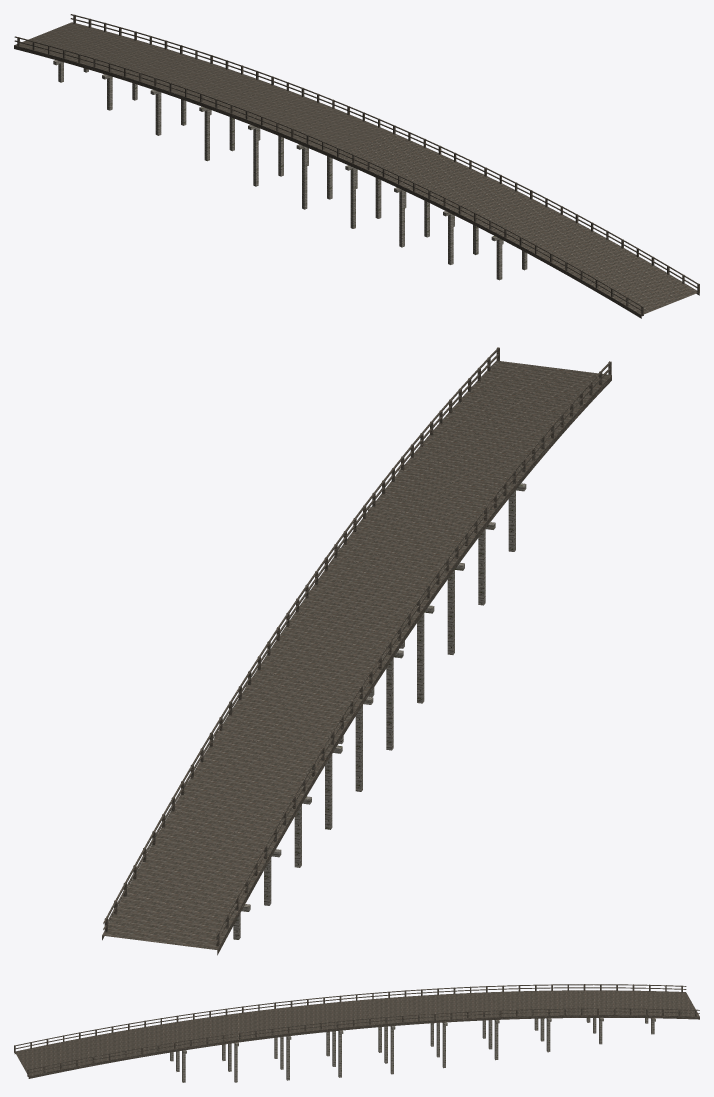
Rendered from city-bridges-roads.glb.
3 renders of one model, top to bottom at view 1: azimuth 30°, elevation 25°; view 2: azimuth 150°, elevation 25°; view 3: azimuth 270°, elevation 25°, orthographic. The views are drawn at different scales.
Visible parts, largest first — view 1: city-bridges-roads.timber, city-bridges-roads.log; view 2: city-bridges-roads.timber, city-bridges-roads.log; view 3: city-bridges-roads.timber, city-bridges-roads.log.
Part boxes in pixels (left/top/right/bottom): city-bridges-roads.timber: left=14, top=14, right=699, bottom=318; city-bridges-roads.log: left=53, top=60, right=527, bottom=280; city-bridges-roads.timber: left=102, top=347, right=611, bottom=955; city-bridges-roads.log: left=123, top=468, right=526, bottom=939; city-bridges-roads.timber: left=14, top=984, right=699, bottom=1078; city-bridges-roads.log: left=170, top=1017, right=655, bottom=1082.
Size of the model in its own units: 32.64 by 9.73 by 102.
Materials: 3 (3 with a texture image).
